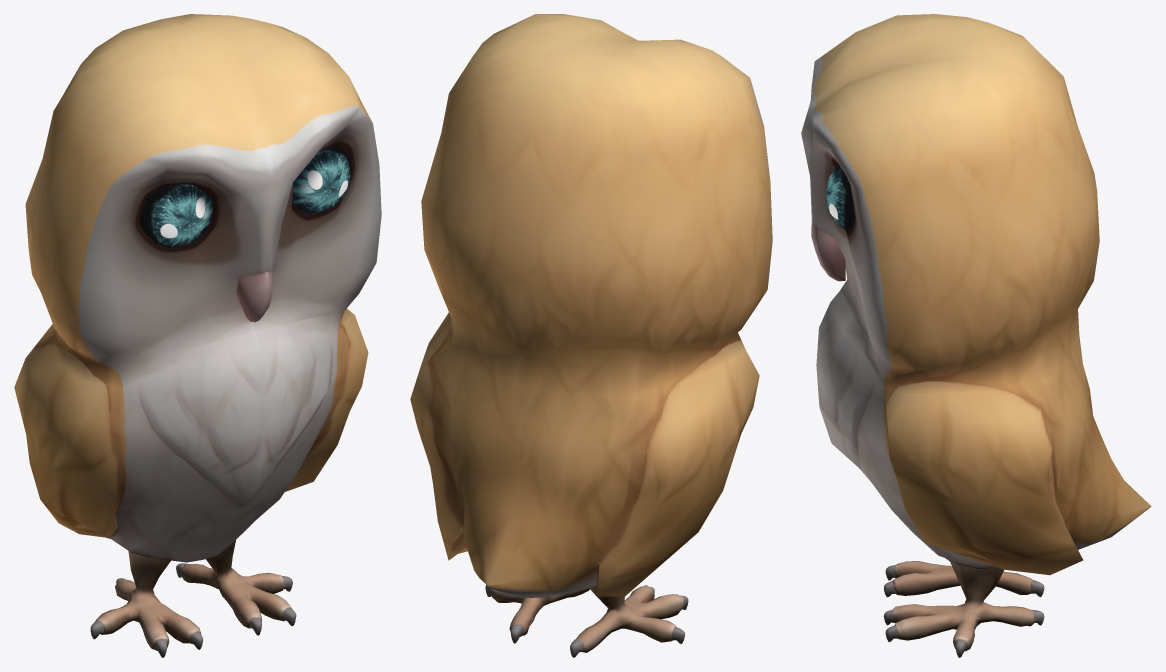
The model's file is Eggbert_Low_poly_Barn_owl.glb.
3 renders of one model, left to right at view 1: azimuth 30°, elevation 25°; view 2: azimuth 150°, elevation 25°; view 3: azimuth 270°, elevation 25°, orthographic. The views are drawn at different scales.
Parts seen in each view (by area): view 1: Bird_low_lambert2_0, Eyes_low_Material_0, Beak_low_lambert2_0, Talons_low_lambert2_0; view 2: Bird_low_lambert2_0, Talons_low_lambert2_0; view 3: Bird_low_lambert2_0, Eyes_low_Material_0, Beak_low_lambert2_0, Talons_low_lambert2_0.
Part boxes in pixels (box(x1,y1,x2,y2)): Bird_low_lambert2_0: box(14, 14, 381, 650); Eyes_low_Material_0: box(139, 146, 350, 247); Beak_low_lambert2_0: box(236, 270, 272, 322); Talons_low_lambert2_0: box(90, 563, 296, 657); Bird_low_lambert2_0: box(410, 14, 772, 652); Talons_low_lambert2_0: box(485, 585, 688, 657); Bird_low_lambert2_0: box(801, 14, 1151, 651); Eyes_low_Material_0: box(825, 164, 854, 230); Beak_low_lambert2_0: box(811, 222, 845, 281); Talons_low_lambert2_0: box(883, 565, 1044, 657).
Bounding box in the file's own units: 1.95 × 3.49 × 1.96.
Materials: 2 (2 with a texture image).
